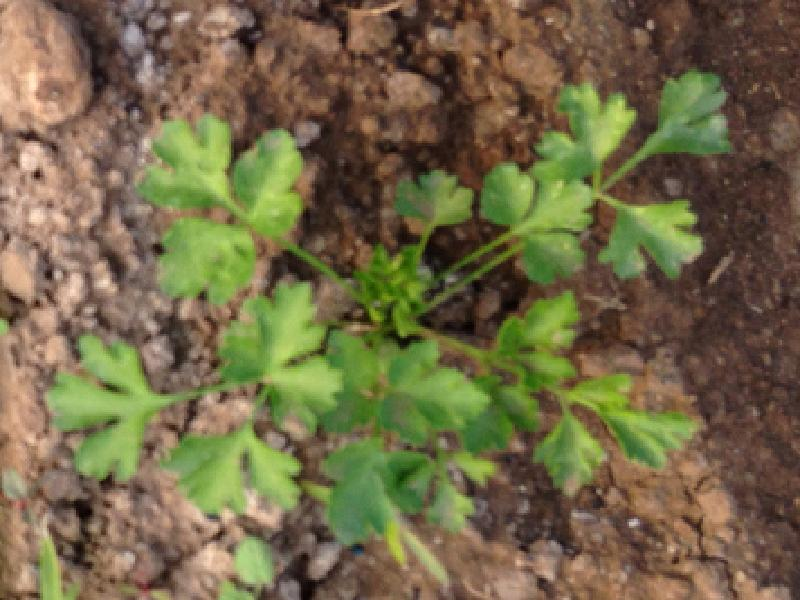radish: (44, 70, 733, 546)
